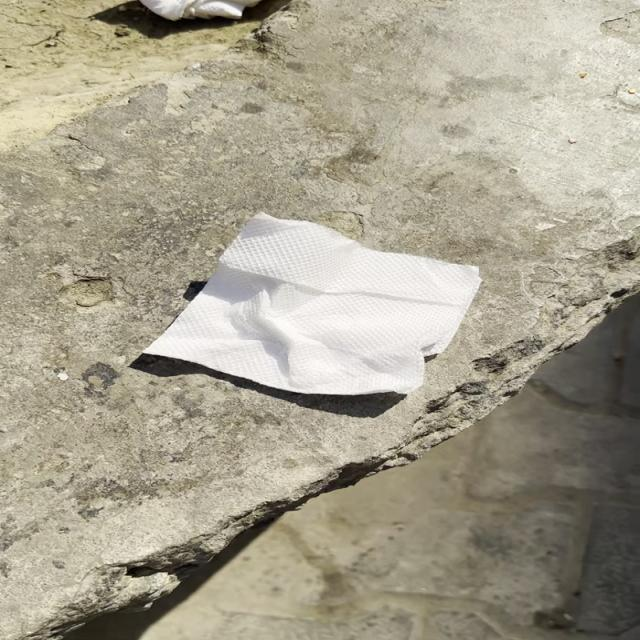tissue: (140, 206, 486, 396)
